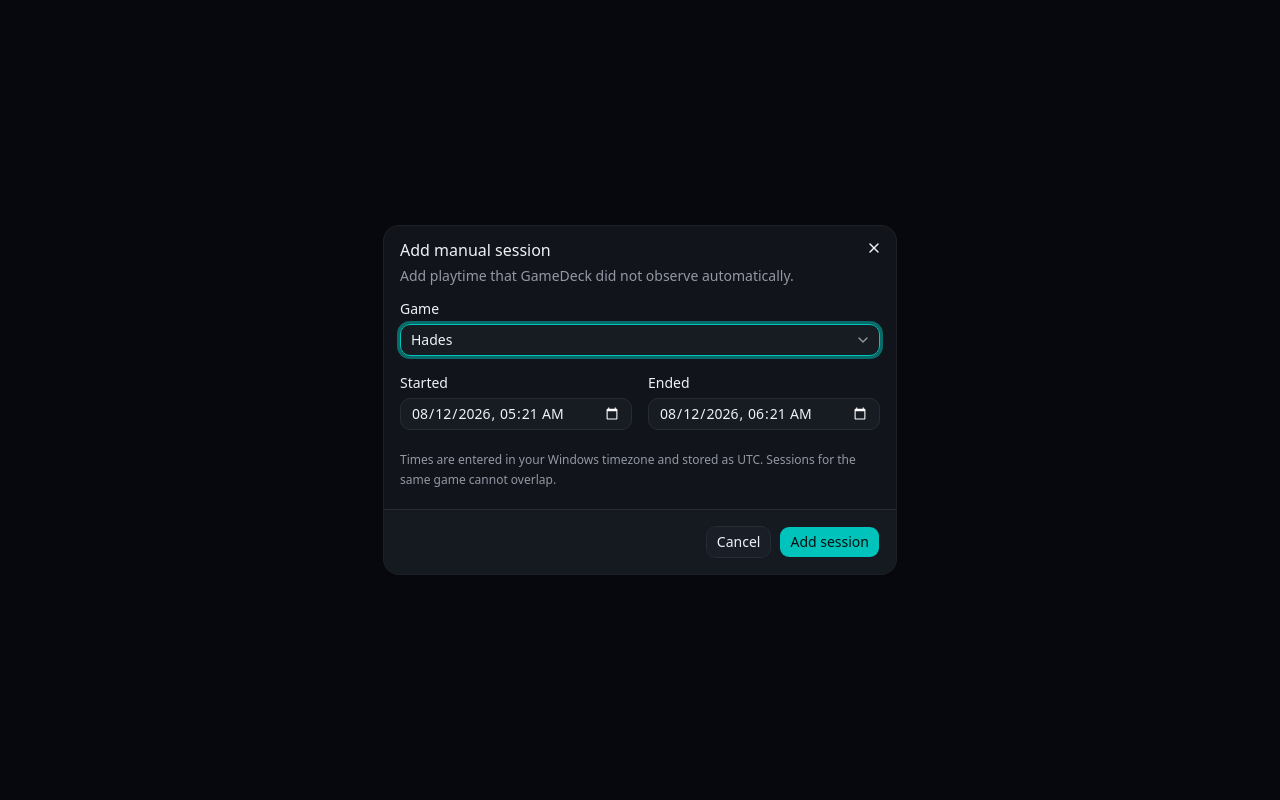
Test case: SessionFormDialog › shows an overlap error without closing the dialog
Click the button "Add session": (830, 542) x1=779 y1=526 x2=880 y2=558
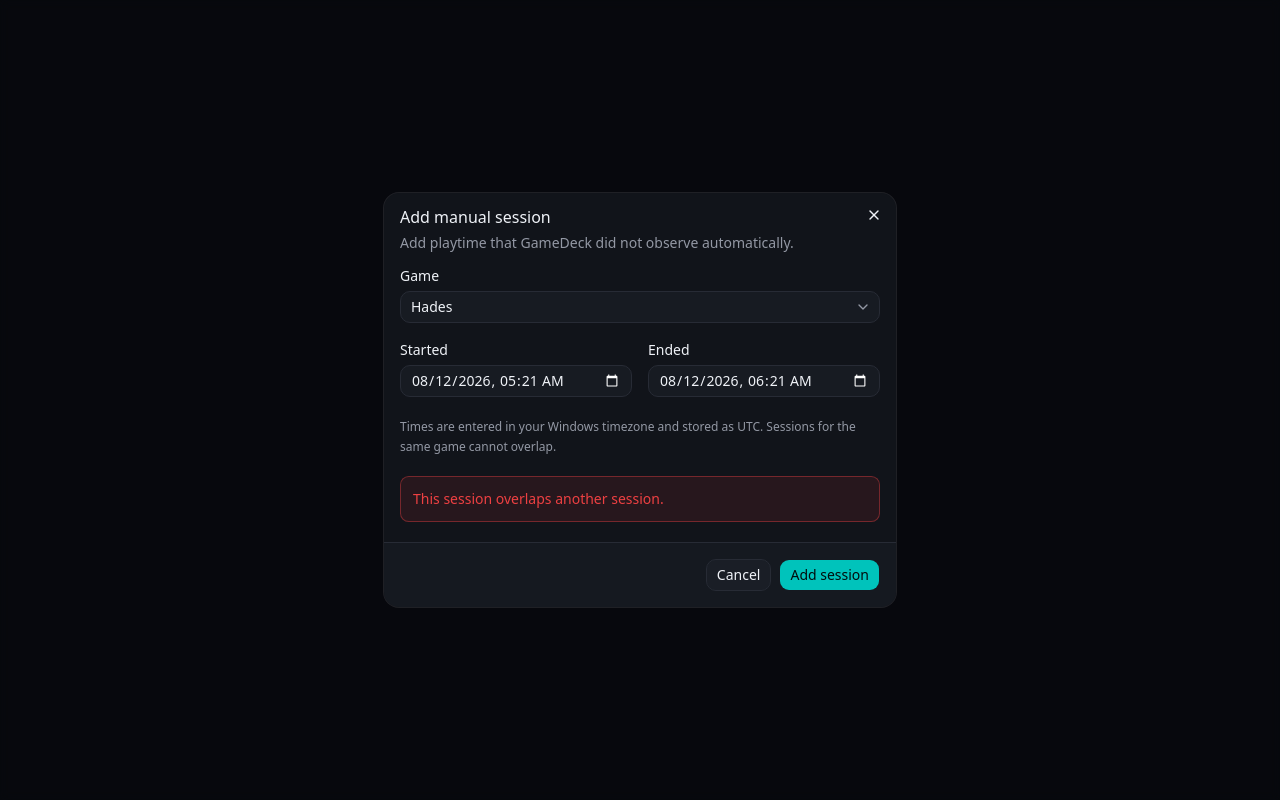
expect the message shows "overlaps another session": met, box x1=413 y1=489 x2=664 y2=508
